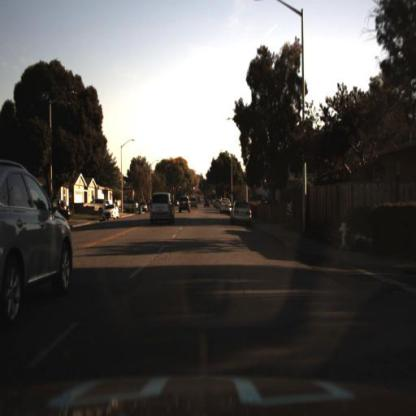car: (1, 157, 75, 315), (149, 191, 178, 225), (228, 198, 252, 224), (100, 198, 122, 220), (84, 196, 111, 212), (177, 193, 192, 213), (120, 195, 138, 211), (136, 199, 150, 216), (221, 197, 232, 214), (202, 198, 212, 206)
